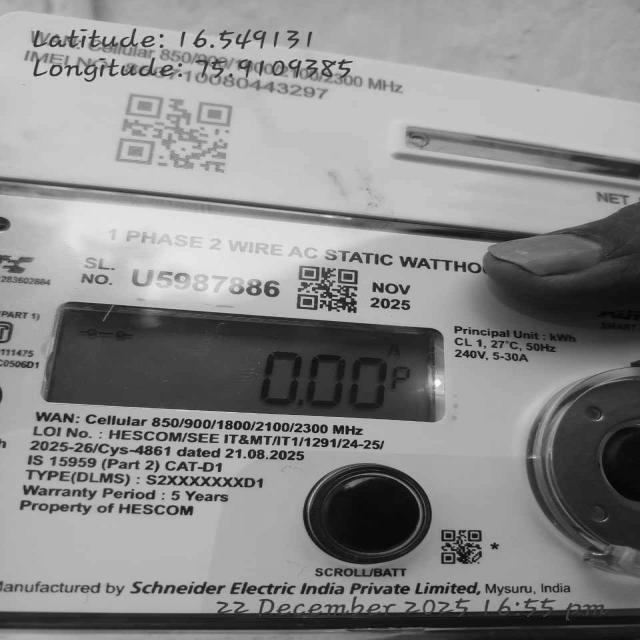meter: (0, 12, 640, 616)
